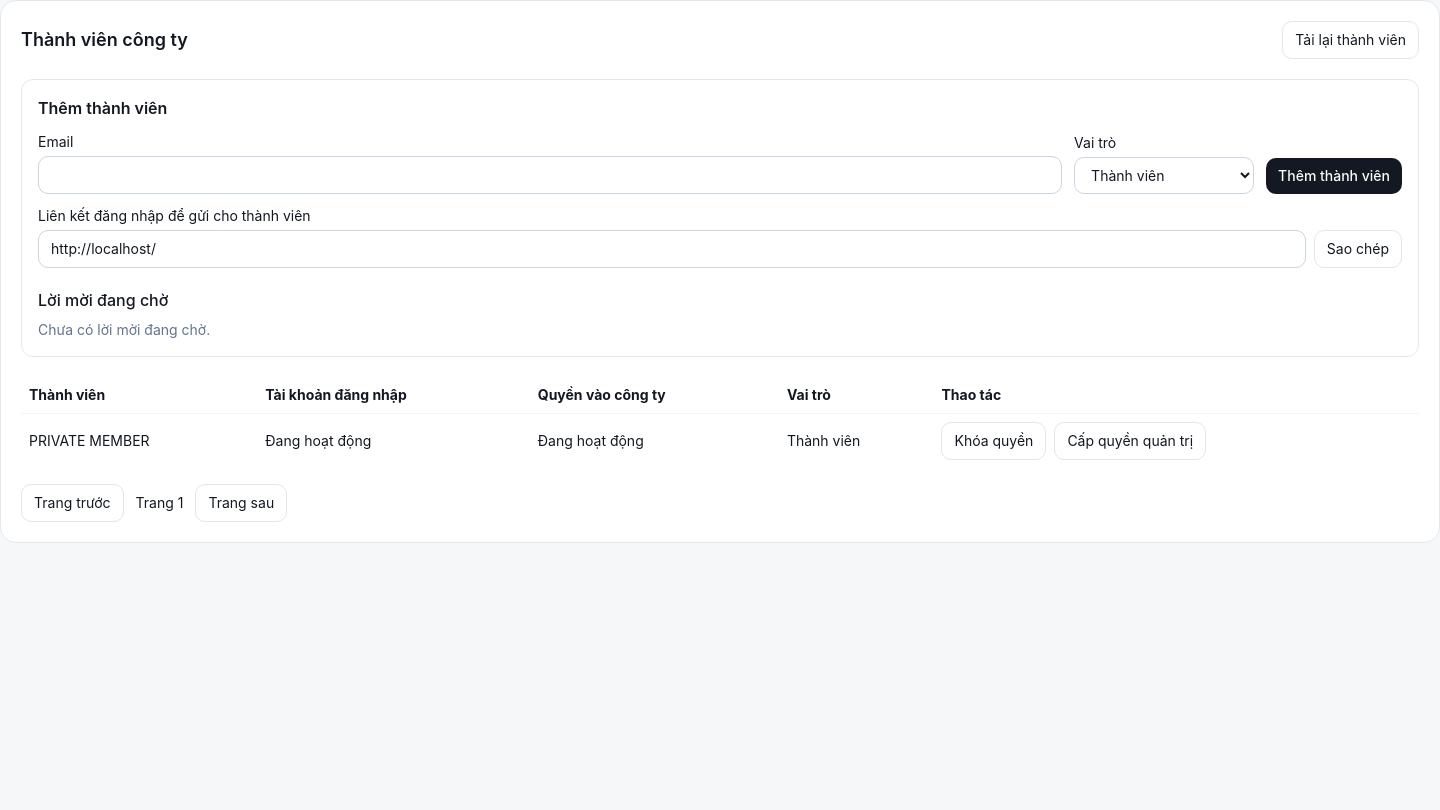
Scenario: lost committed browser reply retains the same operation and blocks further edits until replay
Expected: the text "PRIVATE MEMBER" is shown, top-left (21, 414), bottom-right (257, 468)
Click the button with aria-label "Cấp quyền quản trị PRIVATE MEMBER": click(1130, 441) top-left (1054, 422), bottom-right (1206, 460)
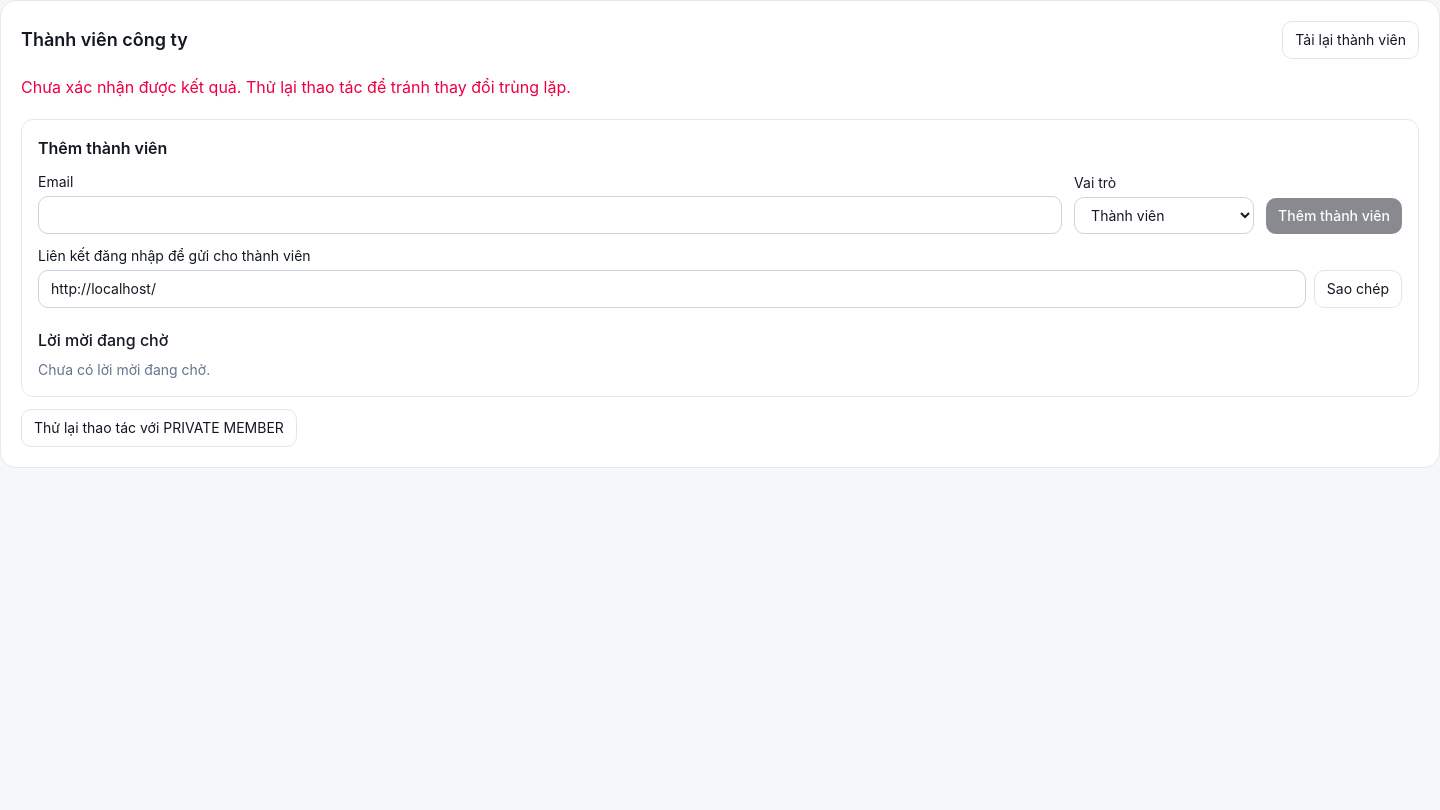
Expected: the button "Tải lại thành viên" is disabled, top-left (1282, 21), bottom-right (1419, 59)
Result: the message "Chưa xác nhận được kết quả. Thử lại thao tác để tránh thay đổi trùng lặp." is shown at top-left (21, 77), bottom-right (571, 97)
Click the button "Thử lại thao tác với PRIVATE MEMBER": click(159, 428) top-left (21, 409), bottom-right (297, 447)
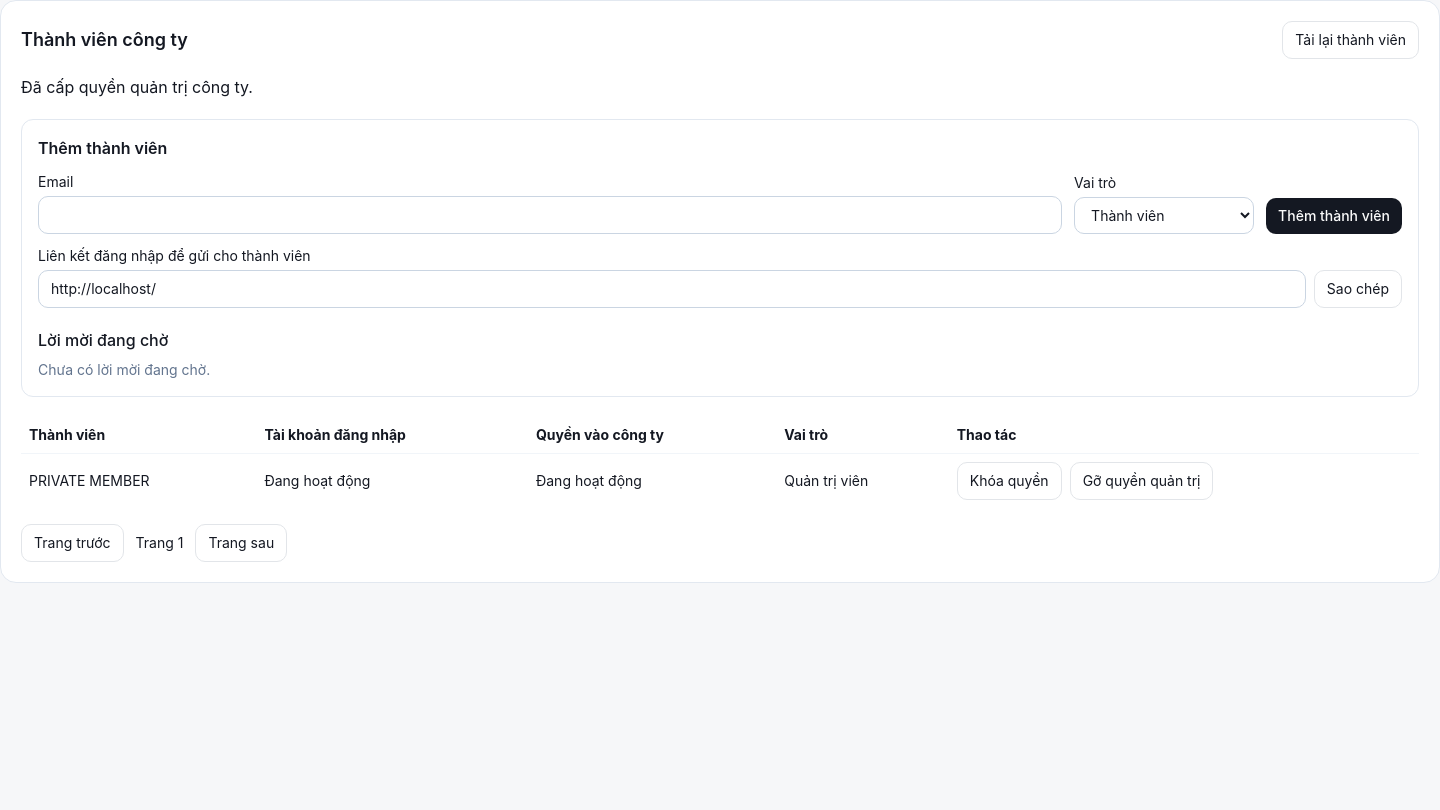
Result: the text "Đã cấp quyền quản trị công ty." is shown at top-left (21, 77), bottom-right (253, 97)
